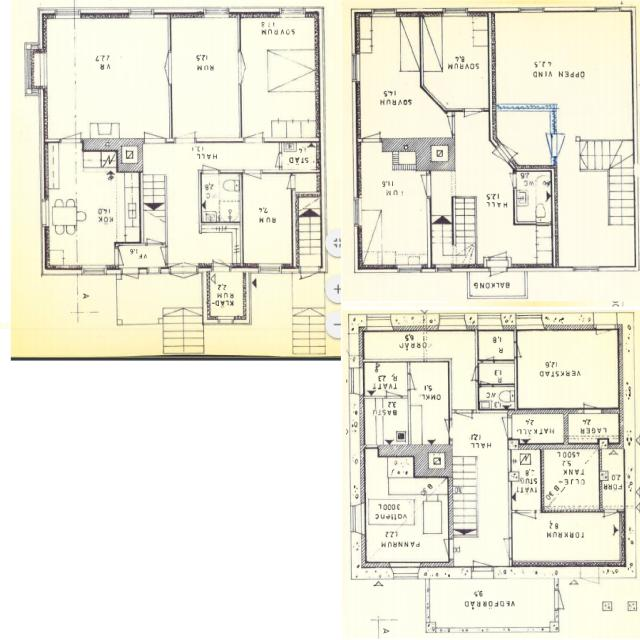door: (592, 314, 616, 358), (495, 131, 525, 164), (482, 144, 512, 176), (471, 539, 494, 580), (530, 133, 558, 156), (406, 174, 432, 198), (551, 133, 578, 156), (144, 114, 165, 142), (61, 115, 81, 142), (244, 115, 264, 142), (428, 418, 452, 440), (213, 244, 231, 273), (175, 116, 195, 142), (429, 538, 453, 559), (488, 417, 512, 438), (517, 509, 537, 533), (584, 389, 602, 414), (464, 107, 482, 132), (553, 591, 576, 610), (121, 268, 139, 292), (434, 116, 456, 135), (456, 410, 474, 433), (300, 268, 317, 292), (489, 267, 507, 289), (245, 170, 262, 192), (363, 119, 380, 141), (170, 248, 184, 274), (203, 152, 220, 173), (184, 264, 198, 289), (184, 248, 198, 273), (170, 264, 184, 288), (490, 239, 506, 260), (386, 378, 402, 398), (147, 224, 162, 245), (153, 51, 171, 68), (153, 68, 171, 84), (115, 247, 133, 263), (238, 51, 255, 67), (408, 374, 426, 389), (277, 175, 295, 190), (238, 67, 255, 82), (604, 509, 618, 527), (152, 247, 168, 262), (500, 173, 516, 188), (462, 367, 478, 381), (514, 342, 530, 356), (267, 153, 282, 166), (482, 346, 494, 362), (481, 372, 493, 388)
